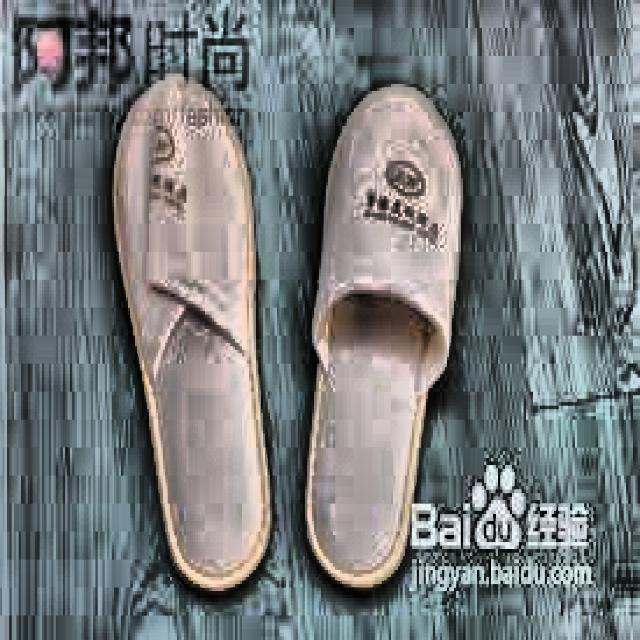shoes: (109, 71, 469, 606)
